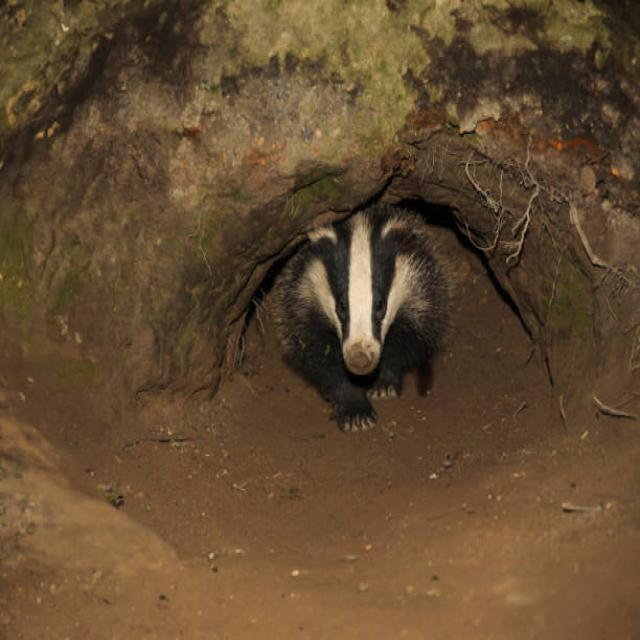Badger: (274, 221, 449, 427)
